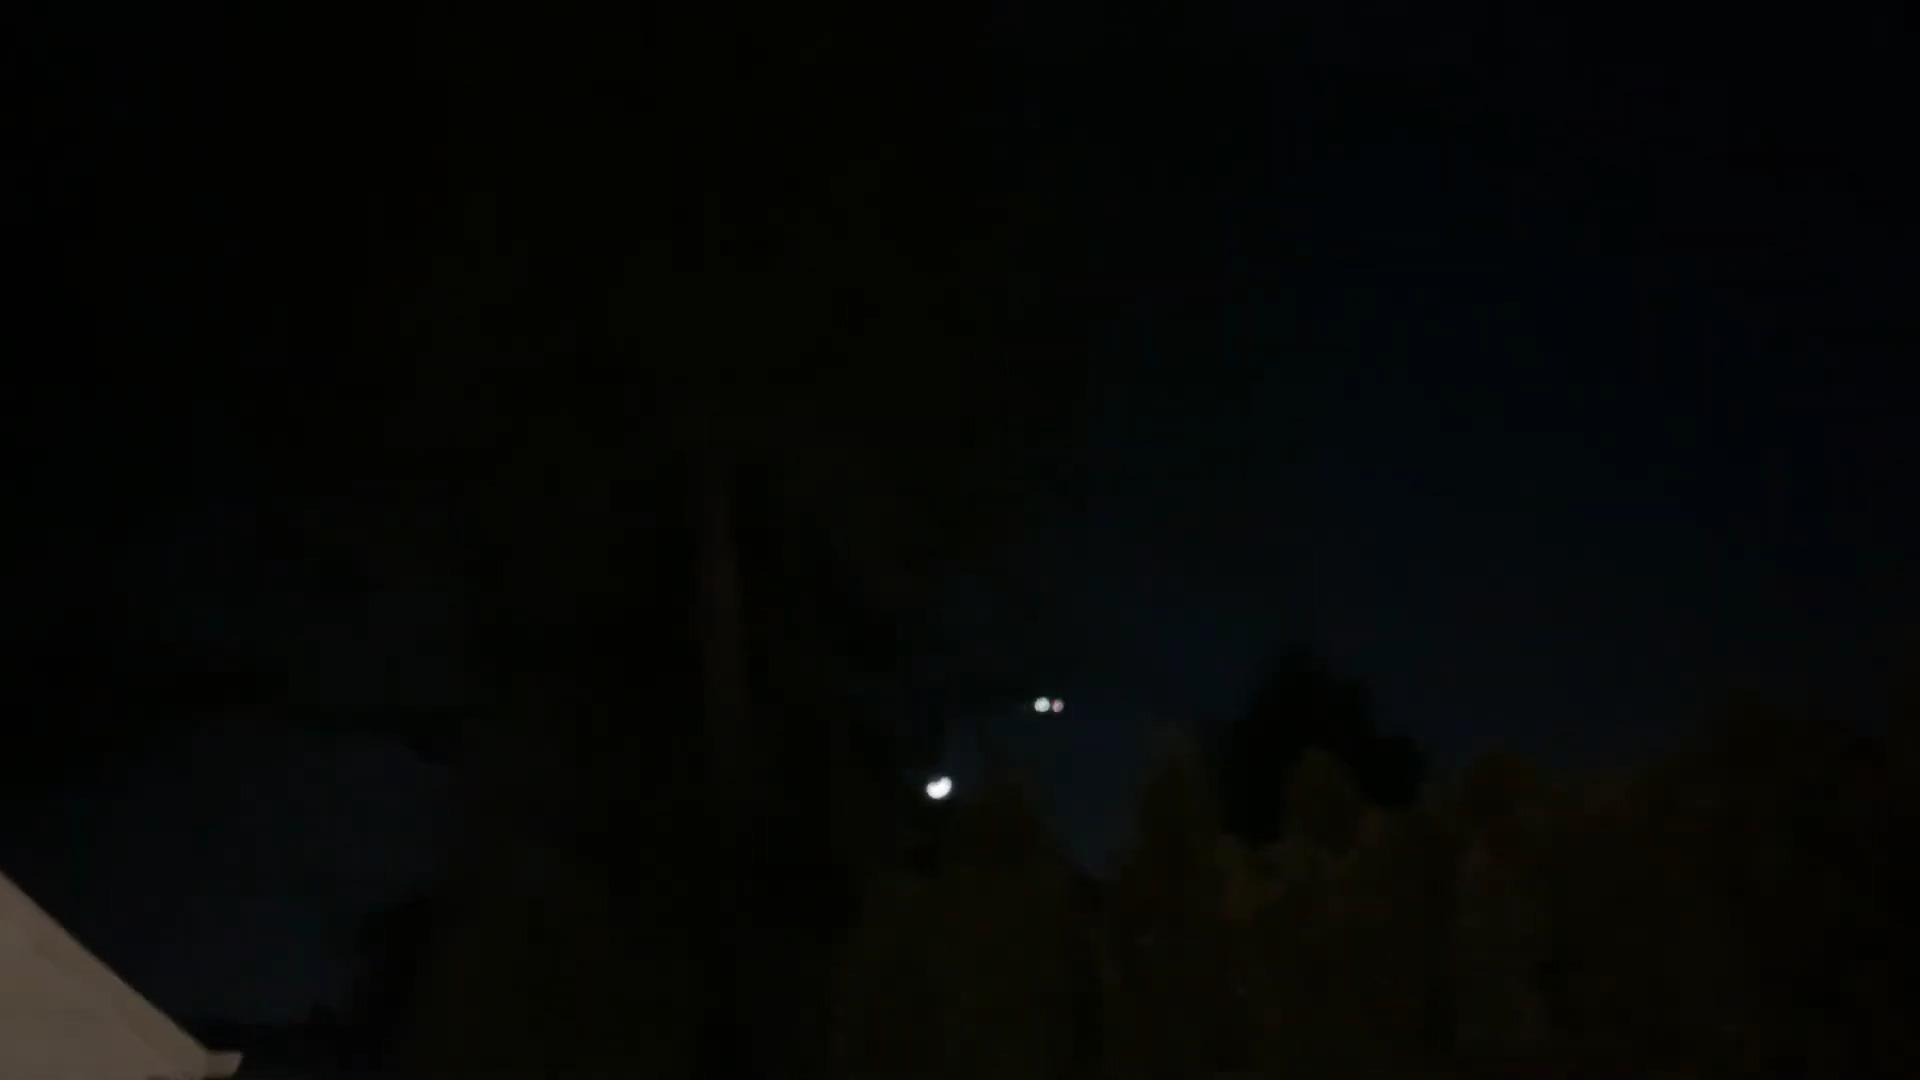Plane: (1011, 684, 1085, 732)
